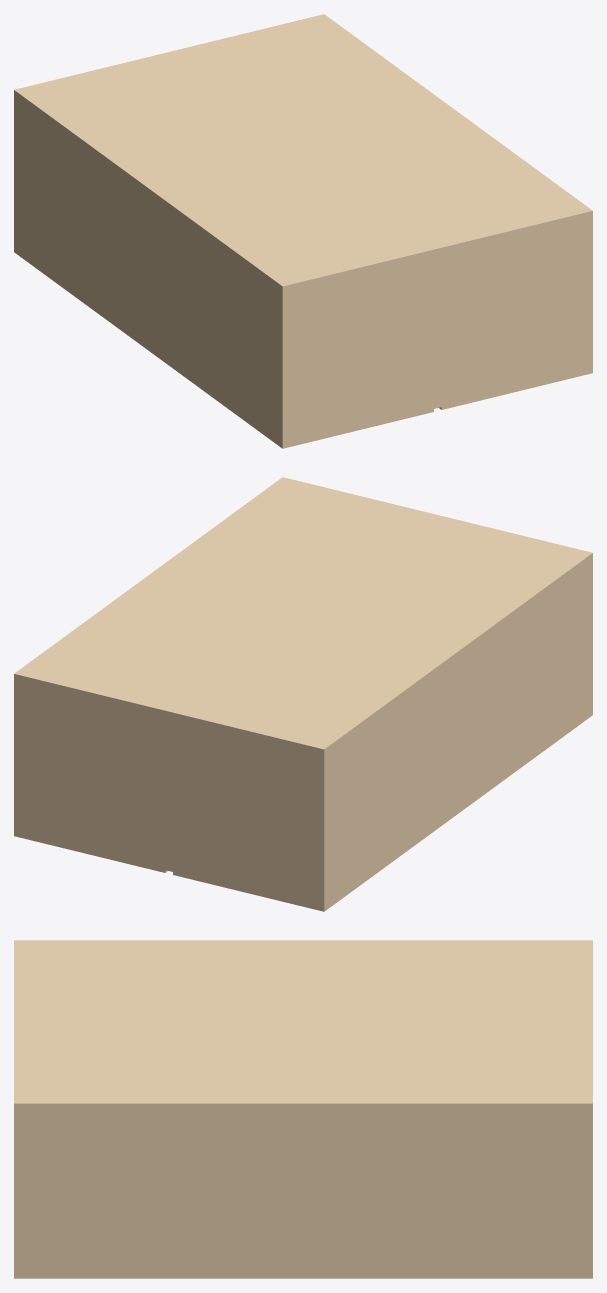
Rendered from closet.gltf.
The picture shows the model from 3 angles, top to bottom: view 1: azimuth 30°, elevation 25°; view 2: azimuth 150°, elevation 25°; view 3: azimuth 270°, elevation 25°; orthographic projection. The views are drawn at different scales.
Visible parts, largest first — view 1: Closet; view 2: Closet; view 3: Closet.
Part boxes in pixels (left/top/right/bottom): Closet: left=14, top=14, right=592, bottom=448; Closet: left=14, top=477, right=592, bottom=911; Closet: left=14, top=940, right=592, bottom=1278.
Bounding box in the file's own units: 0.0508 × 0.0287 × 0.0762.
